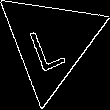L_N: (28, 13, 73, 71)
